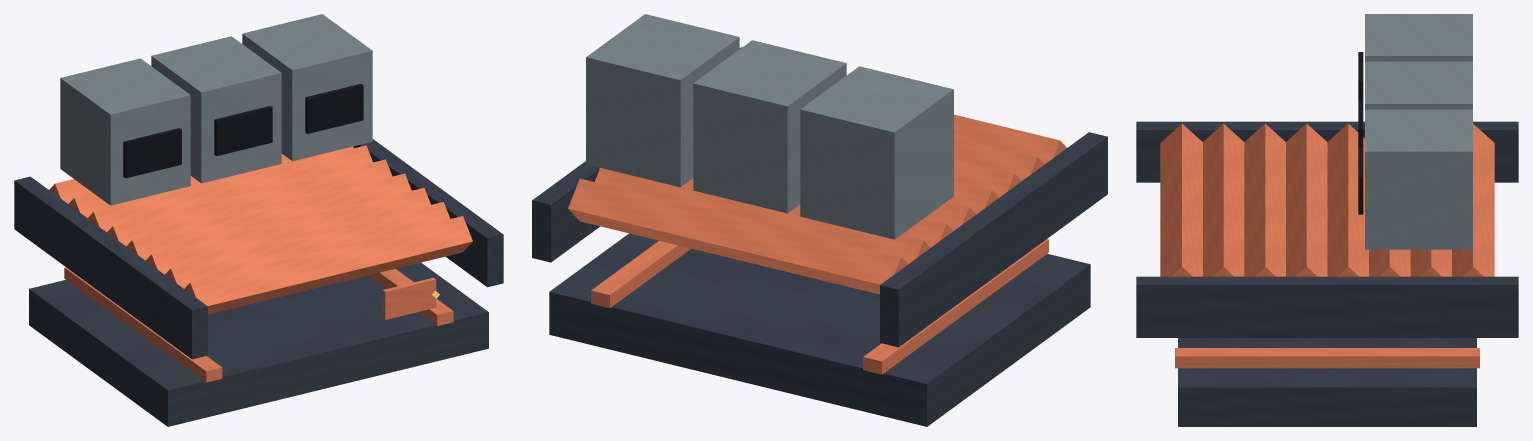
The model's file is atlas100-s023-a02.lod1.glb.
3 renders of one model, left to right at view 1: azimuth 30°, elevation 25°; view 2: azimuth 150°, elevation 25°; view 3: azimuth 270°, elevation 25°, orthographic. The views are drawn at different scales.
Visible parts, largest first — view 1: atlas100-s023-a02:part-000, atlas100-s023-a02:part-013, atlas100-s023-a02:part-011, atlas100-s023-a02:part-015, atlas100-s023-a02:part-017, atlas100-s023-a02:part-010, atlas100-s023-a02:part-009, atlas100-s023-a02:part-006, atlas100-s023-a02:part-007, atlas100-s023-a02:part-008, atlas100-s023-a02:part-005, atlas100-s023-a02:part-012 (+8 smaller); view 2: atlas100-s023-a02:part-000, atlas100-s023-a02:part-013, atlas100-s023-a02:part-017, atlas100-s023-a02:part-015, atlas100-s023-a02:part-011, atlas100-s023-a02:part-003, atlas100-s023-a02:part-004, atlas100-s023-a02:part-012, atlas100-s023-a02:part-001, atlas100-s023-a02:part-002, atlas100-s023-a02:part-010, atlas100-s023-a02:part-009 (+4 smaller); view 3: atlas100-s023-a02:part-012, atlas100-s023-a02:part-000, atlas100-s023-a02:part-017, atlas100-s023-a02:part-002, atlas100-s023-a02:part-010, atlas100-s023-a02:part-007, atlas100-s023-a02:part-008, atlas100-s023-a02:part-009, atlas100-s023-a02:part-011, atlas100-s023-a02:part-006, atlas100-s023-a02:part-015, atlas100-s023-a02:part-013 (+4 smaller).
Part boxes in pixels (<box>): atlas100-s023-a02:part-000: <box>29,262,488,426</box>; atlas100-s023-a02:part-013: <box>60,58,190,205</box>; atlas100-s023-a02:part-011: <box>14,176,207,359</box>; atlas100-s023-a02:part-015: <box>151,36,281,183</box>; atlas100-s023-a02:part-017: <box>242,14,372,161</box>; atlas100-s023-a02:part-010: <box>184,216,472,314</box>; atlas100-s023-a02:part-009: <box>165,202,450,288</box>; atlas100-s023-a02:part-006: <box>107,159,392,246</box>; atlas100-s023-a02:part-007: <box>126,173,411,260</box>; atlas100-s023-a02:part-008: <box>145,188,430,274</box>; atlas100-s023-a02:part-005: <box>88,145,372,231</box>; atlas100-s023-a02:part-012: <box>353,139,503,287</box>; atlas100-s023-a02:part-000: <box>549,233,1090,426</box>; atlas100-s023-a02:part-013: <box>800,66,953,239</box>; atlas100-s023-a02:part-017: <box>586,14,739,187</box>; atlas100-s023-a02:part-015: <box>693,40,846,213</box>; atlas100-s023-a02:part-011: <box>880,132,1107,347</box>; atlas100-s023-a02:part-003: <box>568,178,907,294</box>; atlas100-s023-a02:part-004: <box>594,168,930,264</box>; atlas100-s023-a02:part-012: <box>532,47,741,262</box>; atlas100-s023-a02:part-001: <box>863,239,1048,374</box>; atlas100-s023-a02:part-002: <box>591,240,690,308</box>; atlas100-s023-a02:part-010: <box>954,114,1066,164</box>; atlas100-s023-a02:part-009: <box>954,136,1044,180</box>; atlas100-s023-a02:part-012: <box>1136,276,1518,337</box>; atlas100-s023-a02:part-000: <box>1178,338,1476,426</box>; atlas100-s023-a02:part-017: <box>1365,109,1472,249</box>; atlas100-s023-a02:part-002: <box>1175,348,1479,368</box>; atlas100-s023-a02:part-010: <box>1160,123,1202,276</box>; atlas100-s023-a02:part-007: <box>1286,123,1327,276</box>; atlas100-s023-a02:part-008: <box>1244,123,1285,276</box>; atlas100-s023-a02:part-009: <box>1203,123,1244,276</box>; atlas100-s023-a02:part-011: <box>1136,121,1518,182</box>; atlas100-s023-a02:part-006: <box>1327,123,1368,276</box>; atlas100-s023-a02:part-015: <box>1365,61,1472,109</box>; atlas100-s023-a02:part-013: <box>1365,14,1472,61</box>.
Bounding box in the file's own units: 2.4 × 1.73 × 2.3.
Materials: 5 (5 with a texture image).
